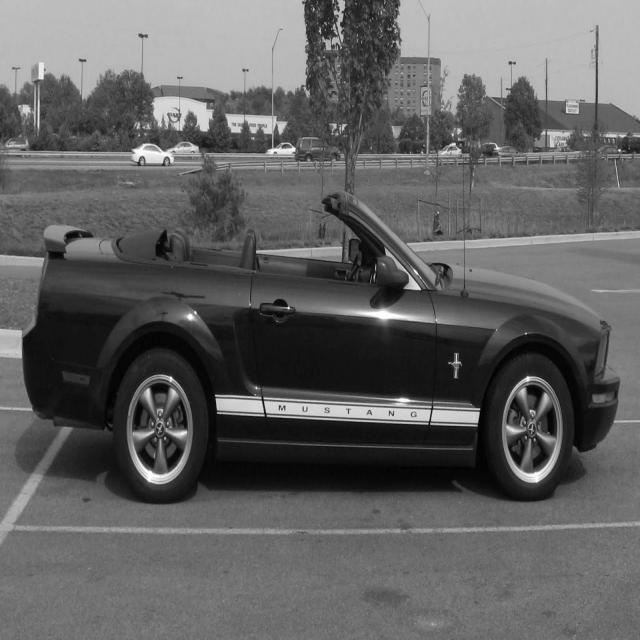car: (130, 142, 174, 166), (166, 140, 199, 154), (265, 141, 296, 155), (4, 136, 30, 151)
